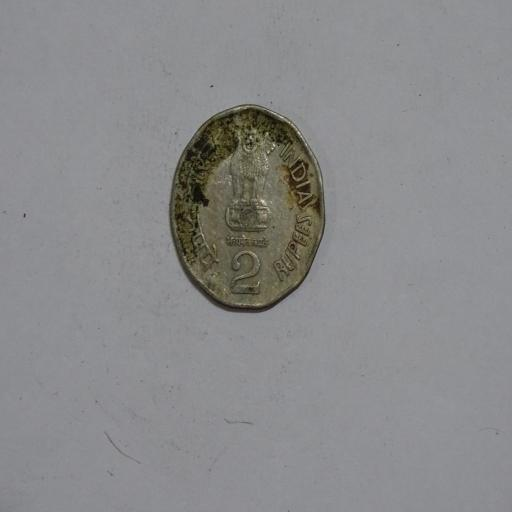rupee2: (168, 106, 326, 312)
